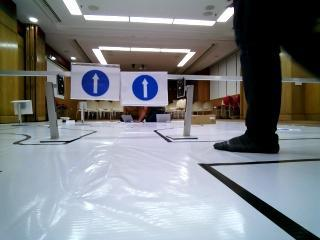straight: (122, 70, 172, 105), (72, 64, 119, 100)
